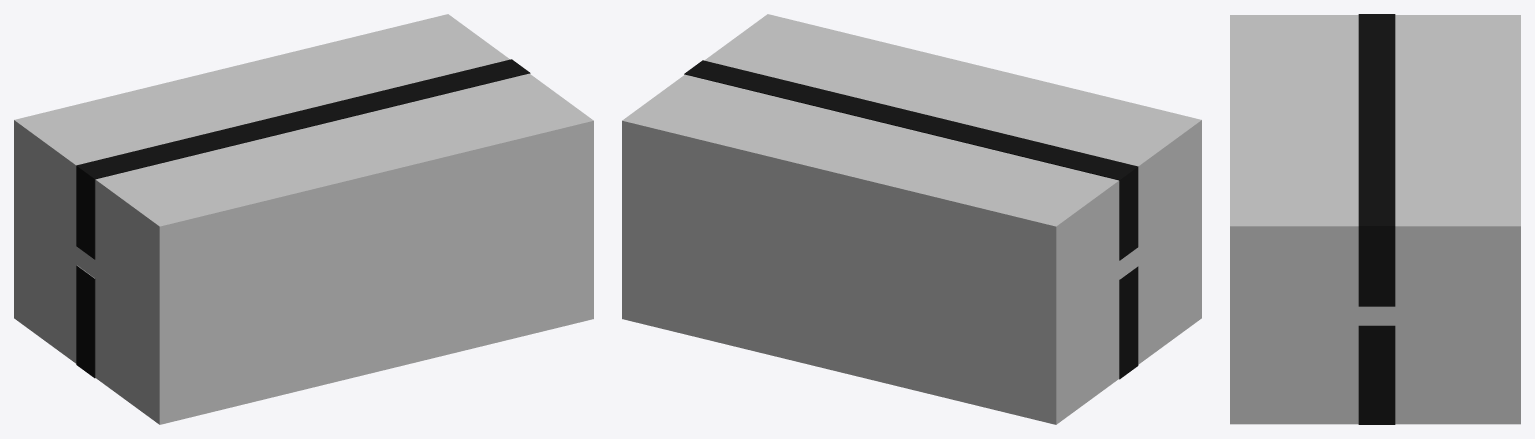
File: Box_Taped.fbx
3 renders of one model, left to right at view 1: azimuth 30°, elevation 25°; view 2: azimuth 150°, elevation 25°; view 3: azimuth 270°, elevation 25°, orthographic.
Visible parts, largest first — view 1: Box; view 2: Box; view 3: Box.
Part boxes in pixels (x1,y1,x2,y2): Box: [14, 14, 593, 424]; Box: [622, 14, 1201, 424]; Box: [1230, 14, 1520, 424].
Size of the model in its own units: 132 by 57.63 by 76.37.
